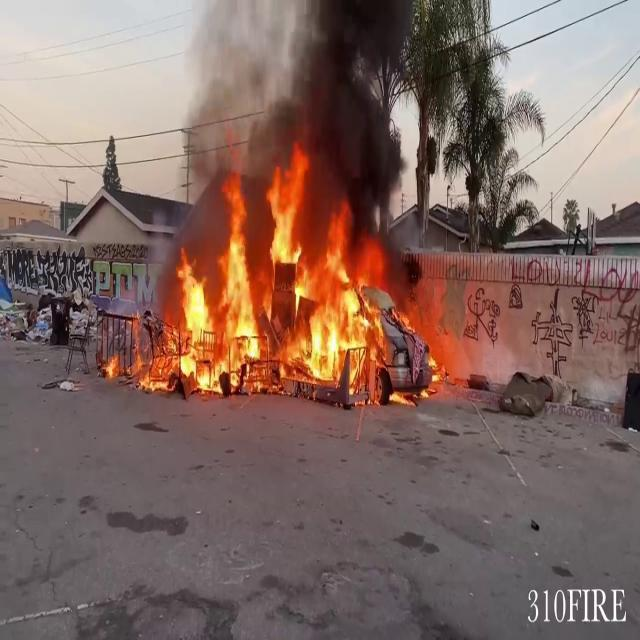Fire: (131, 164, 451, 400)
Smoke: (176, 1, 416, 242)
